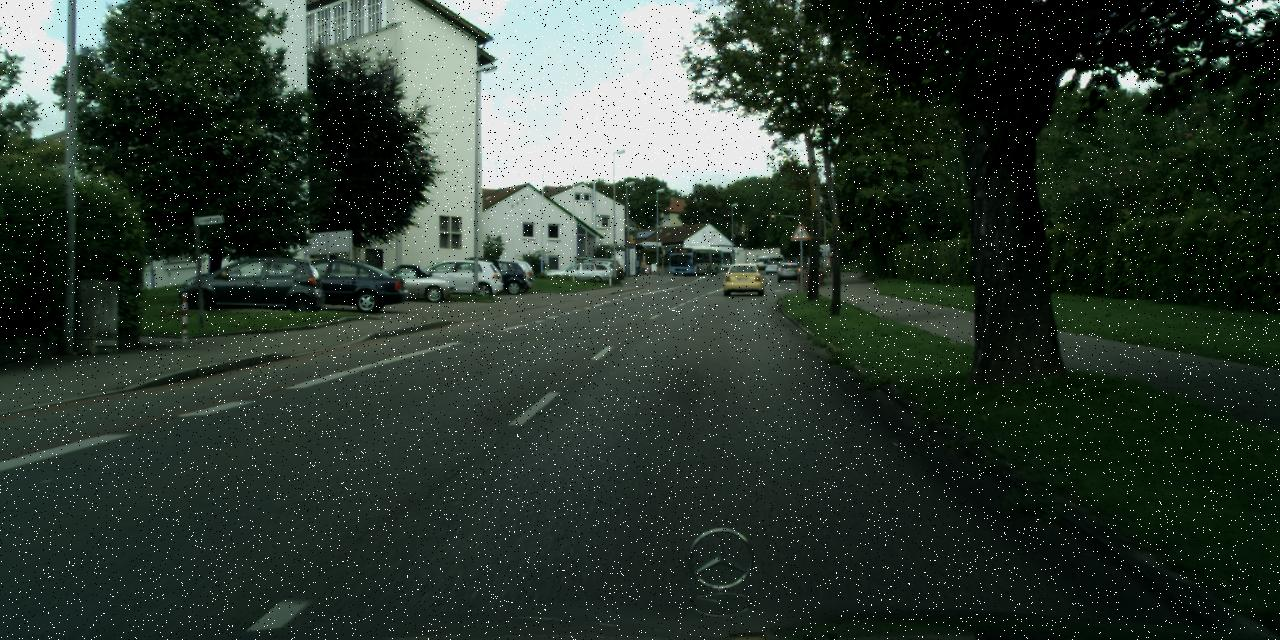ped: (632, 257, 640, 275), (639, 259, 645, 275)
